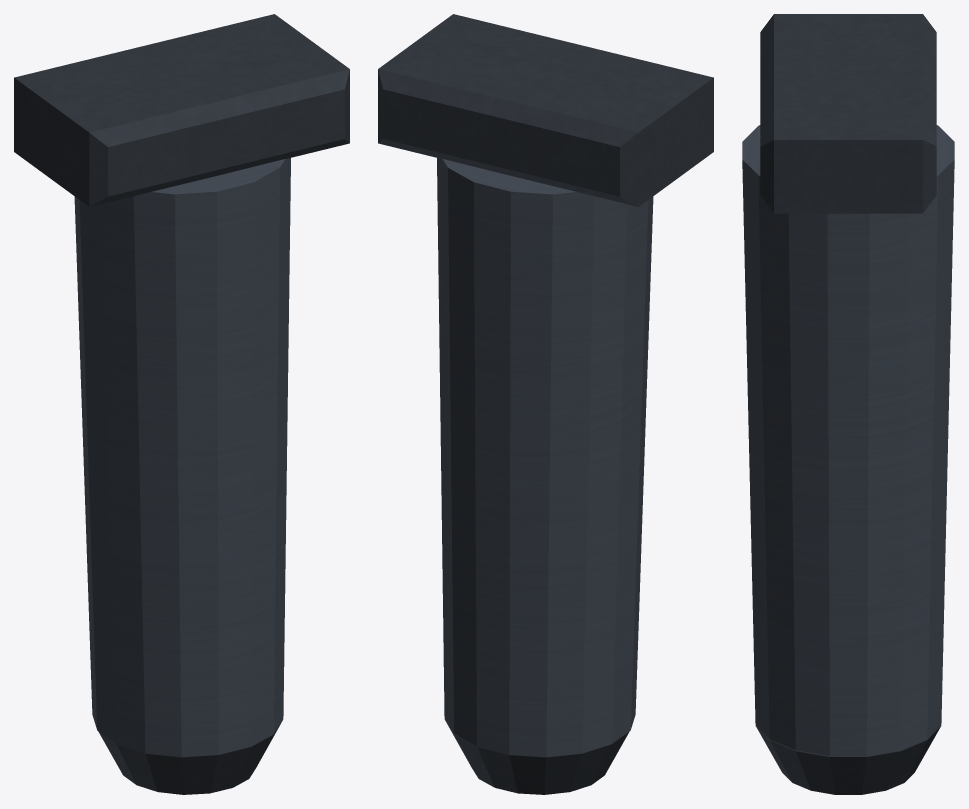
Rendered from grip_vertical_v2.glb.
3 renders of one model, left to right at view 1: azimuth 30°, elevation 25°; view 2: azimuth 150°, elevation 25°; view 3: azimuth 270°, elevation 25°, orthographic.
Visible parts, largest first — view 1: grip_vertical_mesh; view 2: grip_vertical_mesh; view 3: grip_vertical_mesh.
Part boxes in pixels (x1=…): grip_vertical_mesh: x1=14, y1=14, x2=349, y2=794; grip_vertical_mesh: x1=378, y1=14, x2=713, y2=794; grip_vertical_mesh: x1=742, y1=14, x2=954, y2=794.
Size of the model in its own units: 0.044 by 0.112 by 0.0314.
2 materials, 2 textured.
